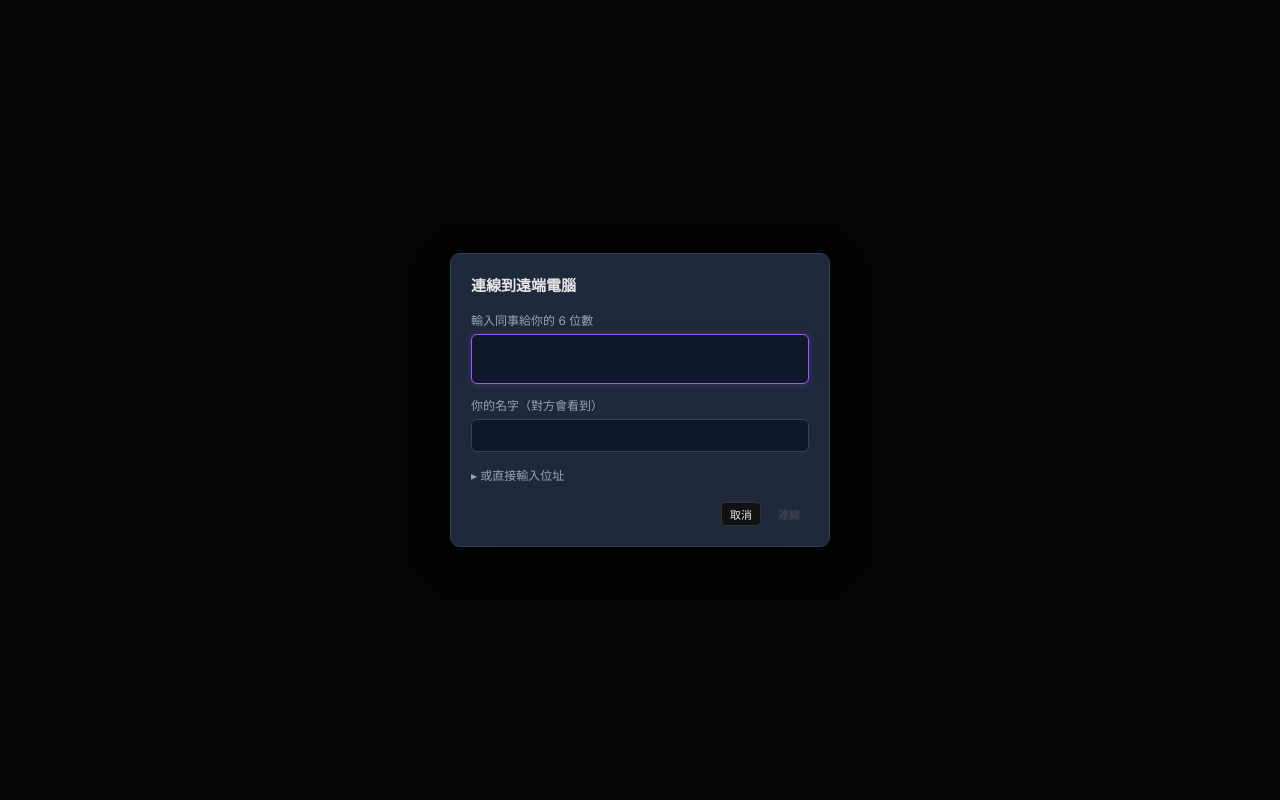
it: ConnectDialog › reveals the manual address field on demand
This screenshot has width=1280, height=800.
Click the button "▸ 或直接輸入位址" at (518, 474), box [471,466,564,483]
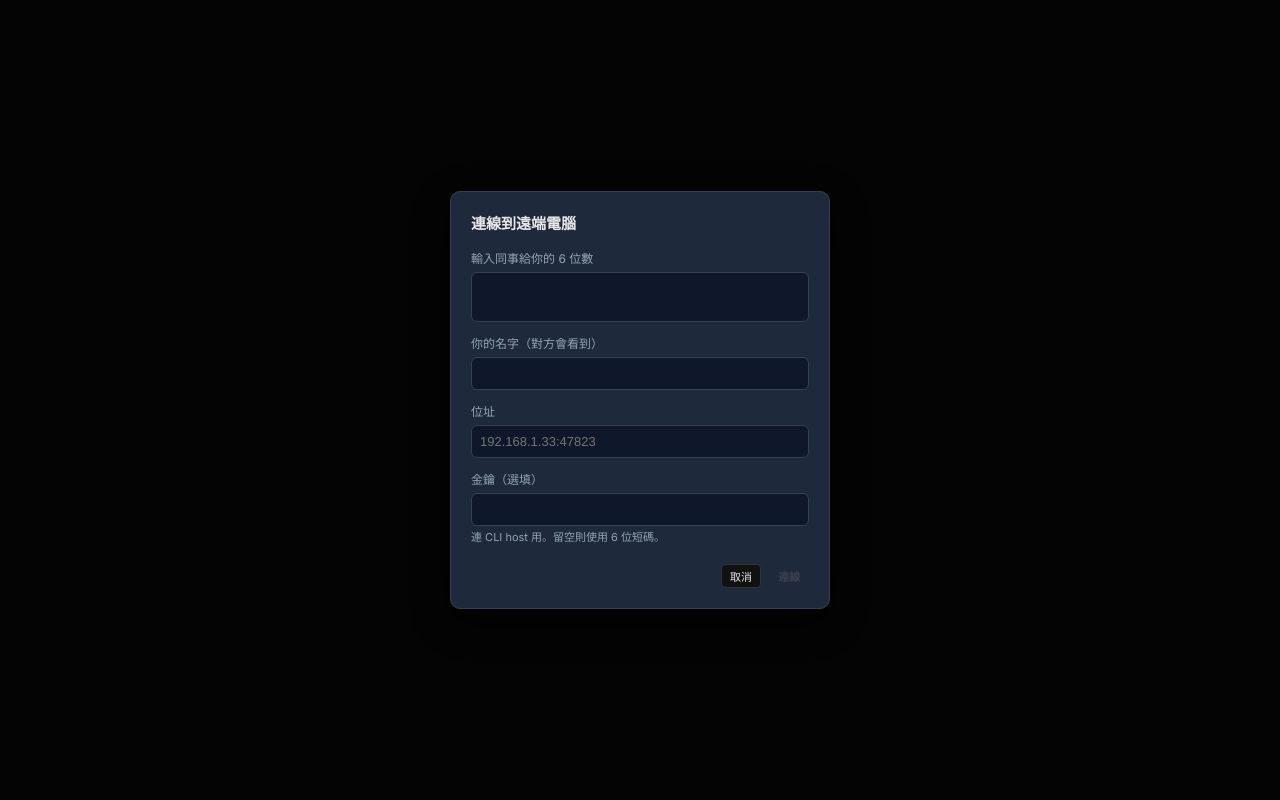
Result: the field with placeholder "192.168.1.33:47823" is shown at [471,425,809,458]
